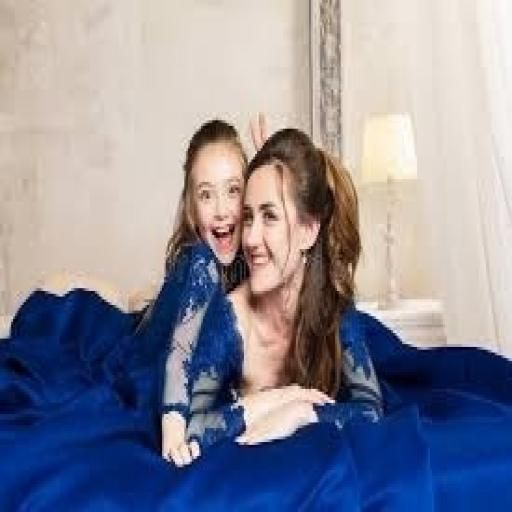hugging: (145, 115, 384, 467)
